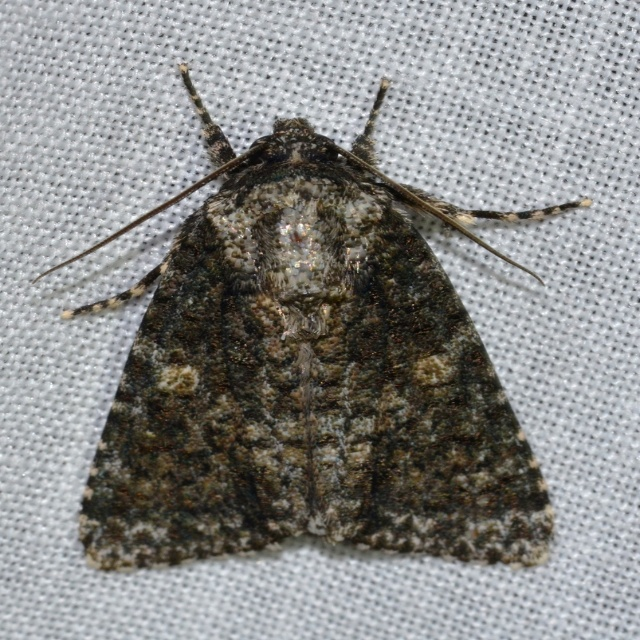Moths and butterflies: (36, 61, 598, 576)
